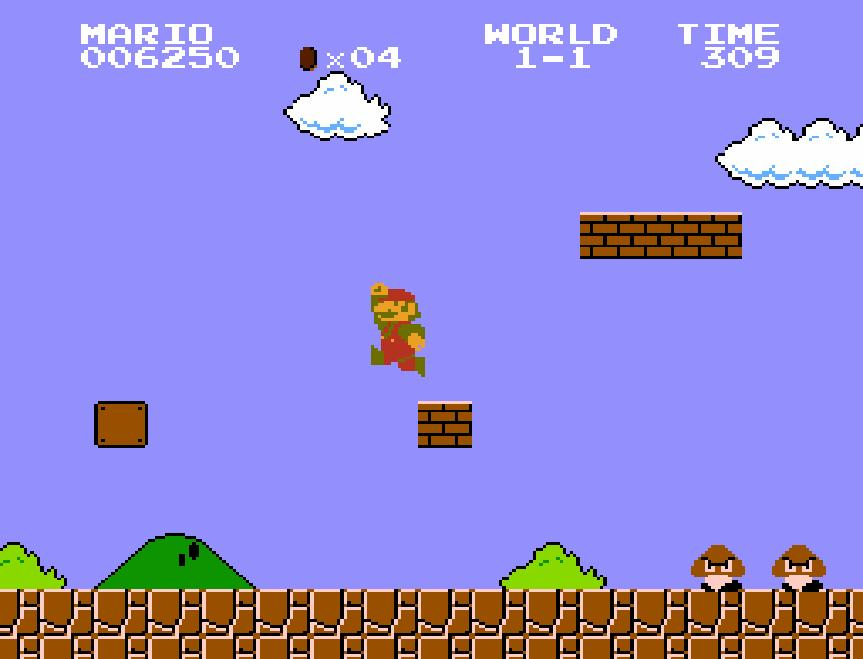big_mario: (368, 280, 426, 378)
